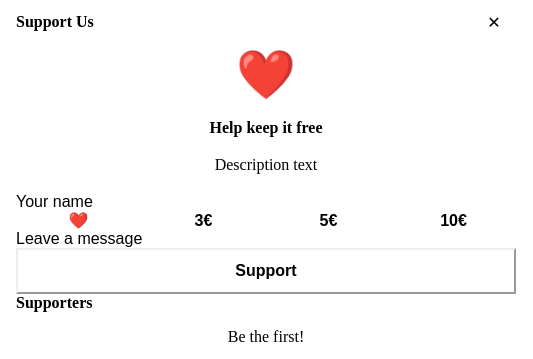
Scenario: SupportOverlay › enables support button when name is entered
Type "Alice" into the field with placeholder "Your name" at x=266, y=202, box 16,193 -> 516,211
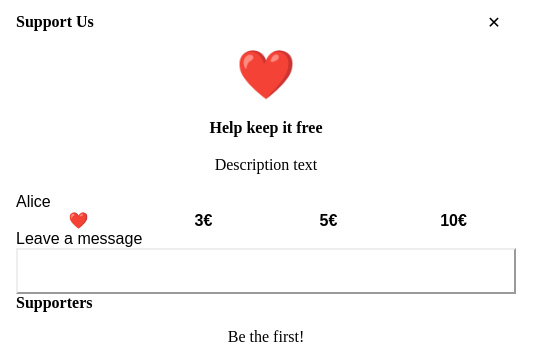
Expected: the button "Support" is enabled, 16,248 -> 516,294
